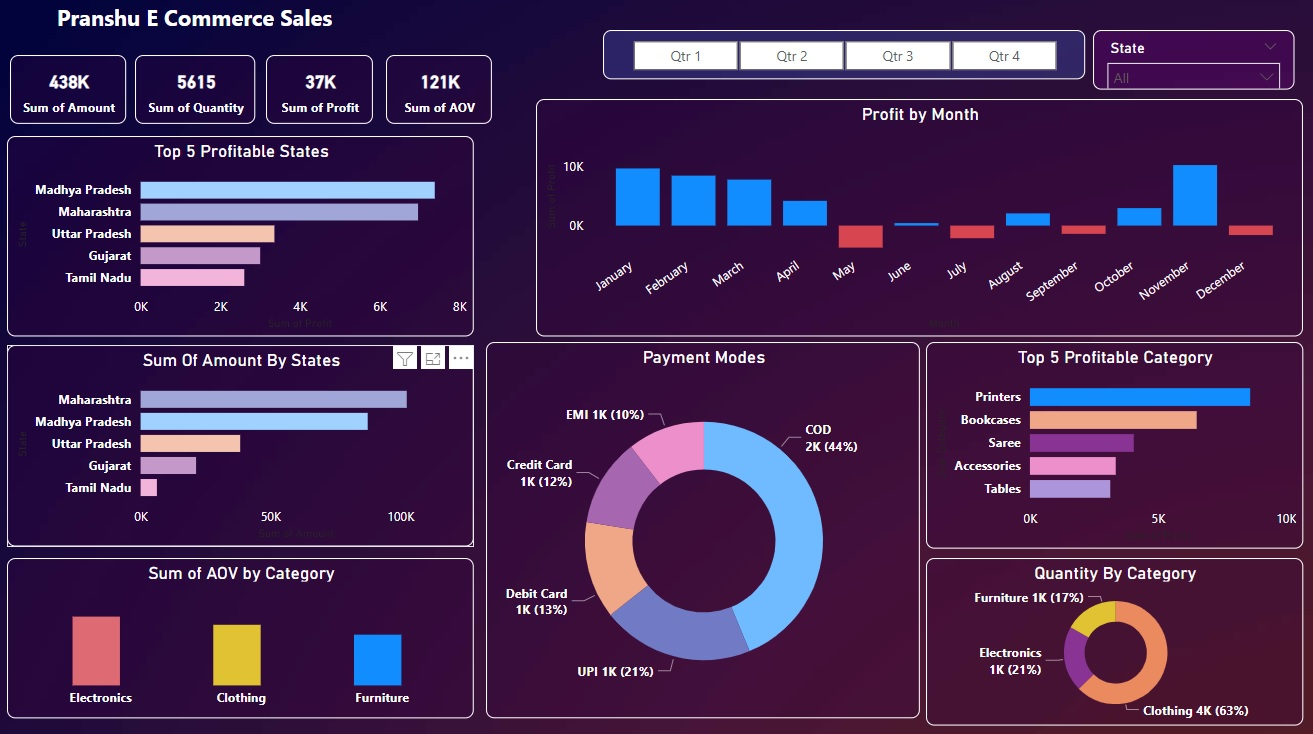

Layout of this report page (visuals, bound fields, positions):
{"tool":"powerbi","page":{"name":"Page 1","canvas":[1280,720],"ordinal":0},"visuals":[{"type":"textbox","box":[13.6,0,353.1,45.7],"z":0},{"type":"columnChart","title":"Profit by Month","fields":{"Category":["Orders.Order Date.Variation.Date Hierarchy.Month"],"Y":["Details.Profit"]},"box":[522.3,99.2,746,230.5],"z":1000},{"type":"barChart","title":"Top 5 Profitable Category","fields":{"Category":["Details.Sub-Category"],"Y":["Details.Profit"]},"box":[901.6,335.6,366.7,201.3],"z":2000},{"type":"donutChart","title":"Quantity By Category","fields":{"Category":["Details.Category"],"Y":["Details.Quantity"]},"box":[901.6,545.7,366.7,163.4],"z":3000},{"type":"donutChart","title":"Payment Modes","fields":{"Y":["Details.Quantity"],"Category":["Details.PaymentMode"]},"box":[473.7,335.6,422.1,365.7],"z":4000},{"type":"card","fields":{"Values":["Details.Amount"]},"box":[10.7,56.4,112.8,67.1],"z":5000},{"type":"card","fields":{"Values":["Details.Profit"]},"box":[259.7,56.4,104.1,67.1],"z":6000},{"type":"card","fields":{"Values":["Details.Quantity"]},"box":[132.3,56.4,116.7,67.1],"z":7000},{"type":"card","fields":{"Values":["Details.AOV"]},"box":[376.4,56.4,103.1,67.1],"z":8000},{"type":"barChart","title":"Top 5 Profitable States","fields":{"Y":["Details.Profit"],"Category":["Orders.State"]},"box":[7.8,135.2,454.2,194.5],"z":9000},{"type":"barChart","title":"Sum Of Amount By States","fields":{"Category":["Orders.State"],"Y":["Details.Amount"]},"box":[7.8,338.5,454.2,196.5],"z":10000},{"type":"slicer","fields":{"Values":["Orders.Order Date.Variation.Date Hierarchy.Quarter"]},"box":[587.5,32.1,468.8,47.7],"z":11000},{"type":"slicer","fields":{"Values":["Orders.State"]},"box":[1064.1,32.1,195.5,58.4],"z":12000},{"type":"ribbonChart","fields":{"Category":["Details.Category"],"Y":["Details.AOV"]},"box":[7.8,545.7,454.2,155.6],"z":12001}]}

Visuals, with their boxes in screenshot pixels (x1, y1, x2, y2), scaled from the page's 1280x720 canvas onto the 1313x734 screenshot:
textbox: [left=14, top=0, right=376, bottom=47]
"Profit by Month" columnChart: [left=536, top=101, right=1301, bottom=336]
"Top 5 Profitable Category" barChart: [left=925, top=342, right=1301, bottom=547]
"Quantity By Category" donutChart: [left=925, top=556, right=1301, bottom=723]
"Payment Modes" donutChart: [left=486, top=342, right=919, bottom=715]
card - Details.Amount: [left=11, top=57, right=127, bottom=126]
card - Details.Profit: [left=266, top=57, right=373, bottom=126]
card - Details.Quantity: [left=136, top=57, right=255, bottom=126]
card - Details.AOV: [left=386, top=57, right=492, bottom=126]
"Top 5 Profitable States" barChart: [left=8, top=138, right=474, bottom=336]
"Sum Of Amount By States" barChart: [left=8, top=345, right=474, bottom=545]
slicer - Orders.Order Date.Variation.Date Hierarchy.Quarter: [left=603, top=33, right=1084, bottom=81]
slicer - Orders.State: [left=1092, top=33, right=1292, bottom=92]
ribbonChart - Details.Category x Details.AOV: [left=8, top=556, right=474, bottom=715]
